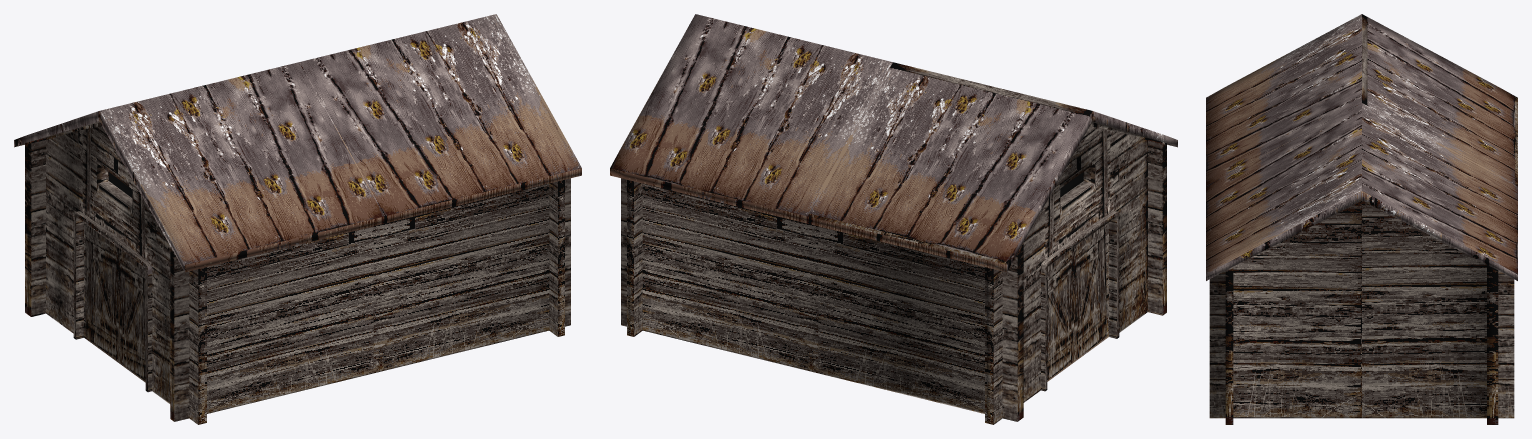
The model's file is abandonedShack.glb.
3 views of the same model, side by side, from view 1: azimuth 30°, elevation 25°; view 2: azimuth 150°, elevation 25°; view 3: azimuth 270°, elevation 25° (orthographic). The views are drawn at different scales.
Parts seen in each view (by area): view 1: abandonedShack; view 2: abandonedShack; view 3: abandonedShack.
Boxes of the visible parts, left/top/right/bottom form: abandonedShack: left=14, top=14, right=581, bottom=424; abandonedShack: left=610, top=14, right=1177, bottom=424; abandonedShack: left=1206, top=14, right=1517, bottom=424.
Size of the model in its own units: 8.73 by 5.39 by 6.51.
1 material, 1 textured.
